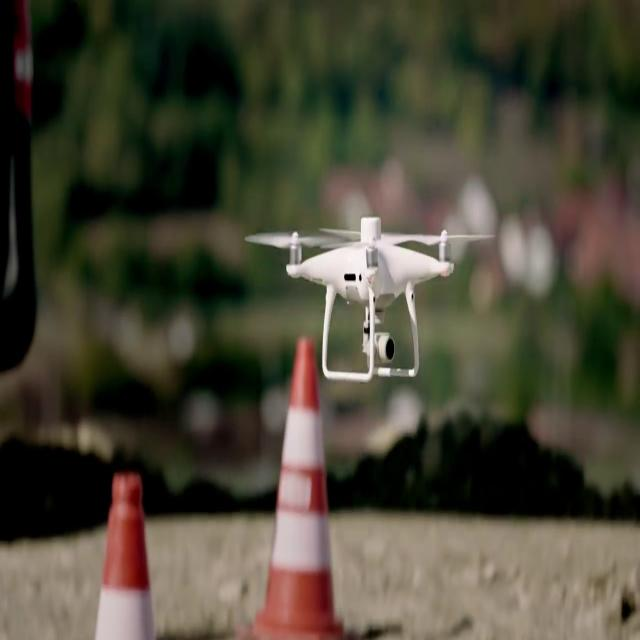drone: (242, 215, 498, 383)
